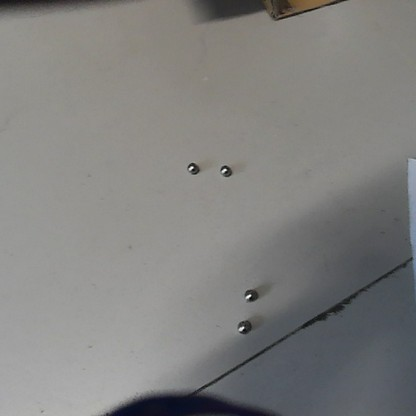ironball: (236, 318, 251, 333), (218, 163, 230, 176), (186, 162, 198, 174), (243, 290, 254, 301)
